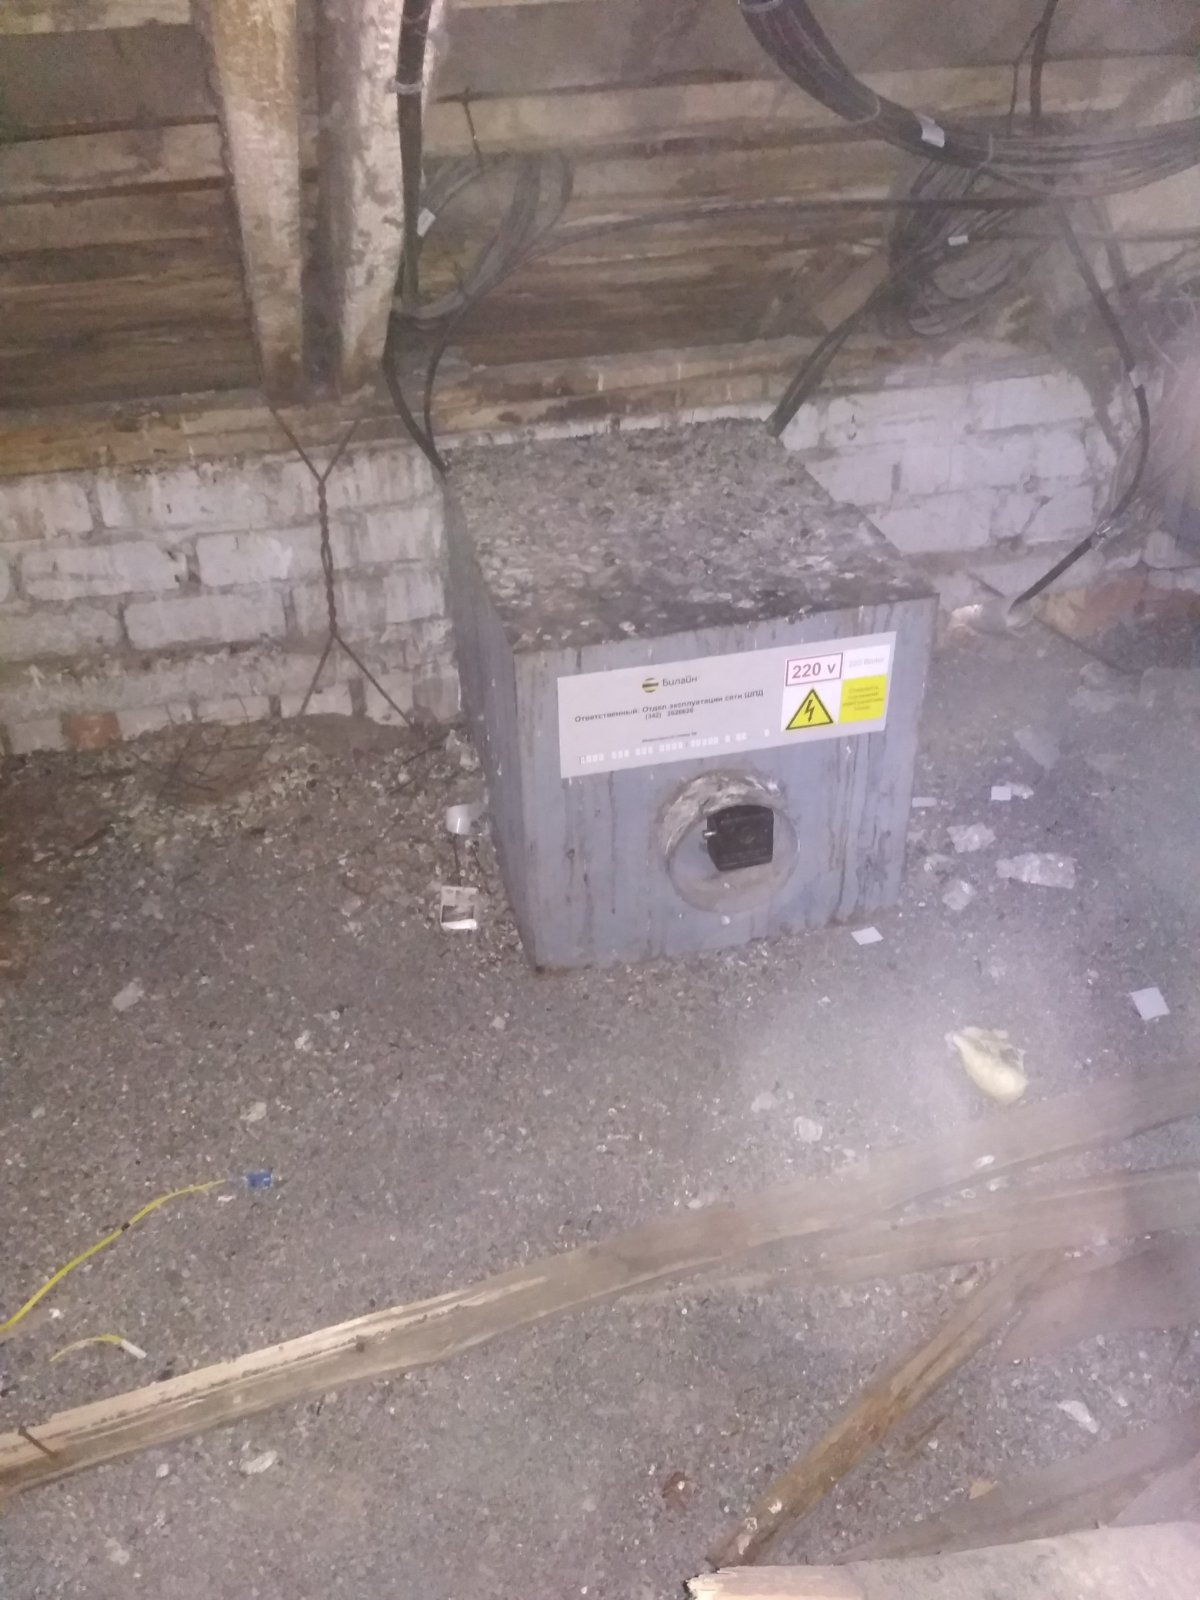shta-9: (429, 430, 954, 984)
